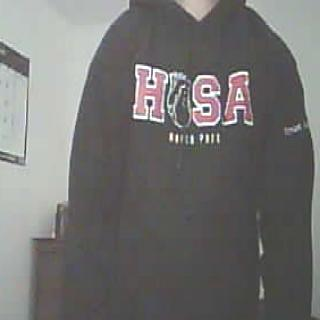HOSA hoodie: (77, 1, 308, 320)
